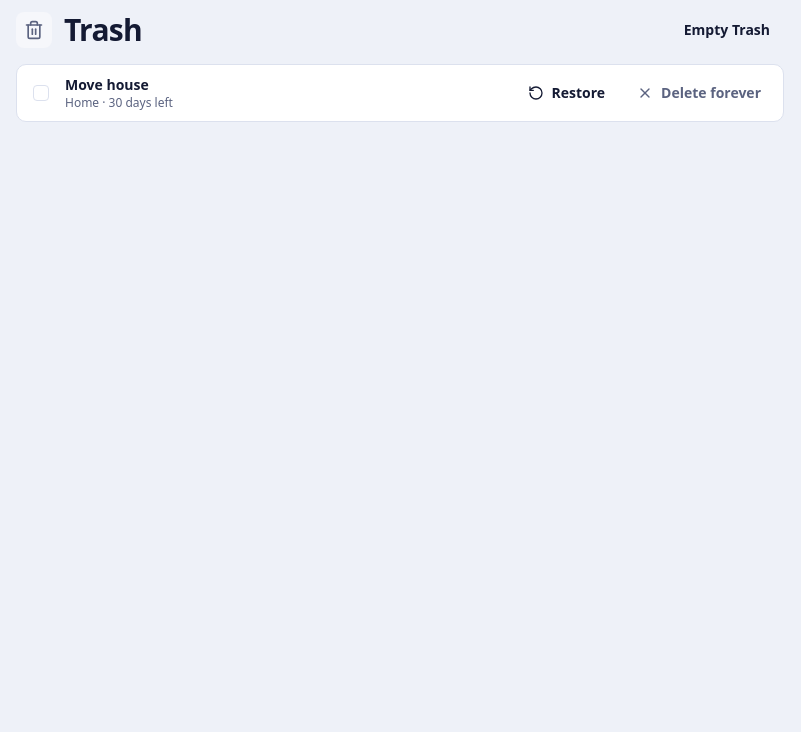
Test: The Trash › restores a Task from its row
This screenshot has width=801, height=732.
Click the button with aria-label "Restore “Move house”". click: (566, 93)
box: [514,75,619,111]
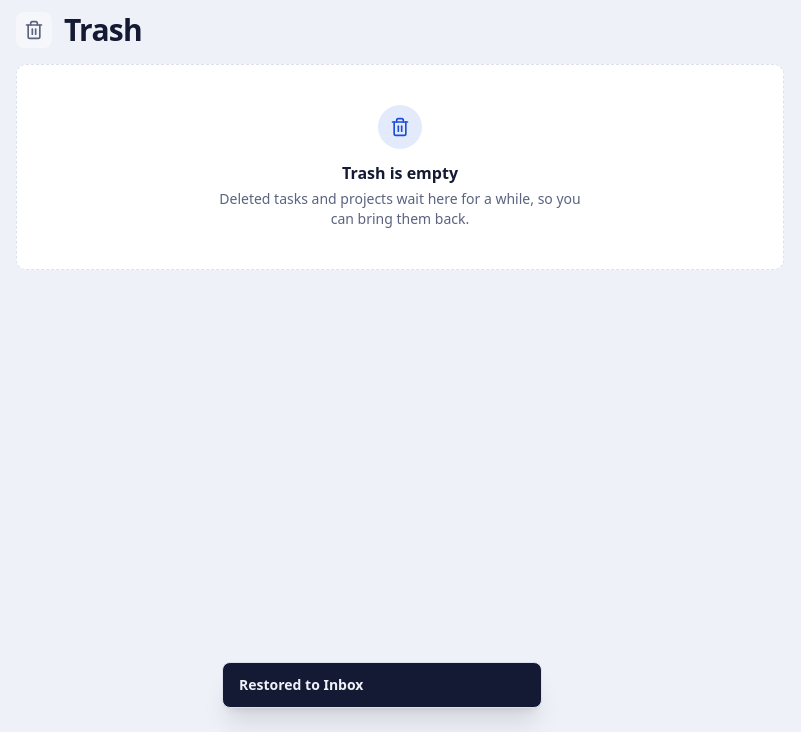
Result: the text "Restored to Inbox" is shown at [239,675,363,695]
Result: the heading "Trash is empty" is shown at [342,161,458,185]
